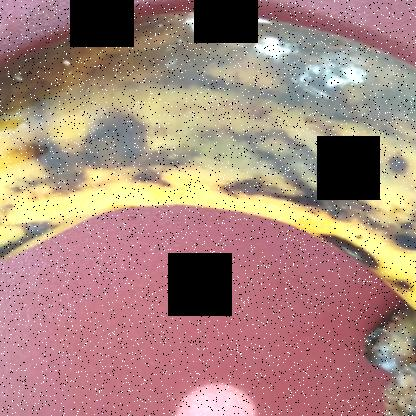rotten: (1, 0, 415, 330)
